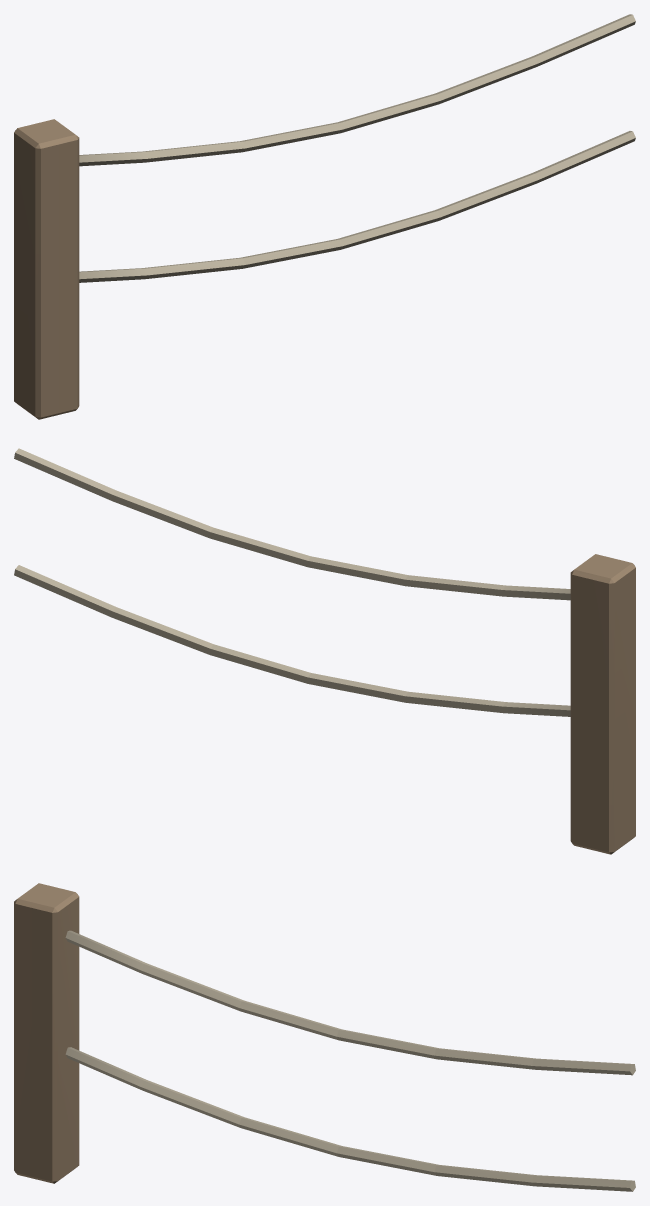
File: rope_rail.glb
3 views of the same model, one above another, from view 1: azimuth 30°, elevation 25°; view 2: azimuth 150°, elevation 25°; view 3: azimuth 330°, elevation 25° (orthographic).
Bounding box in the file's own units: 2.08 × 0.9 × 0.15.
